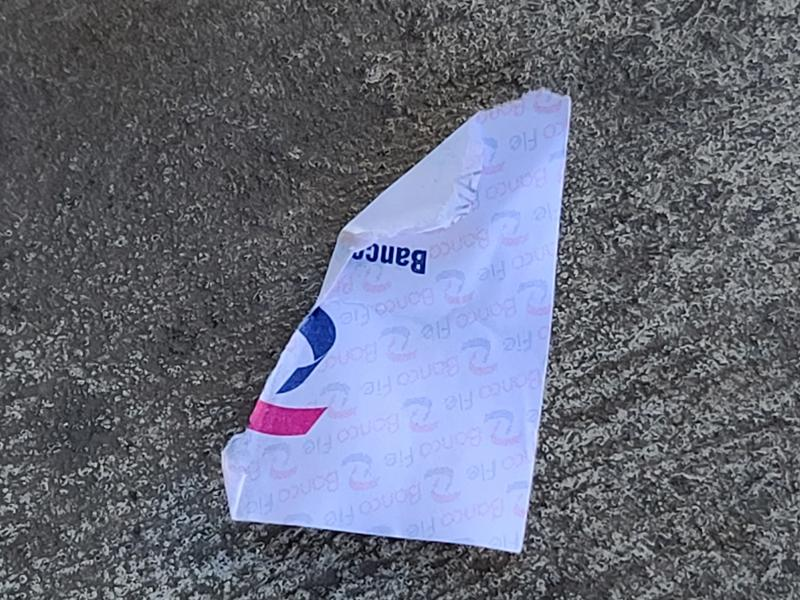papel: (221, 90, 573, 557)
